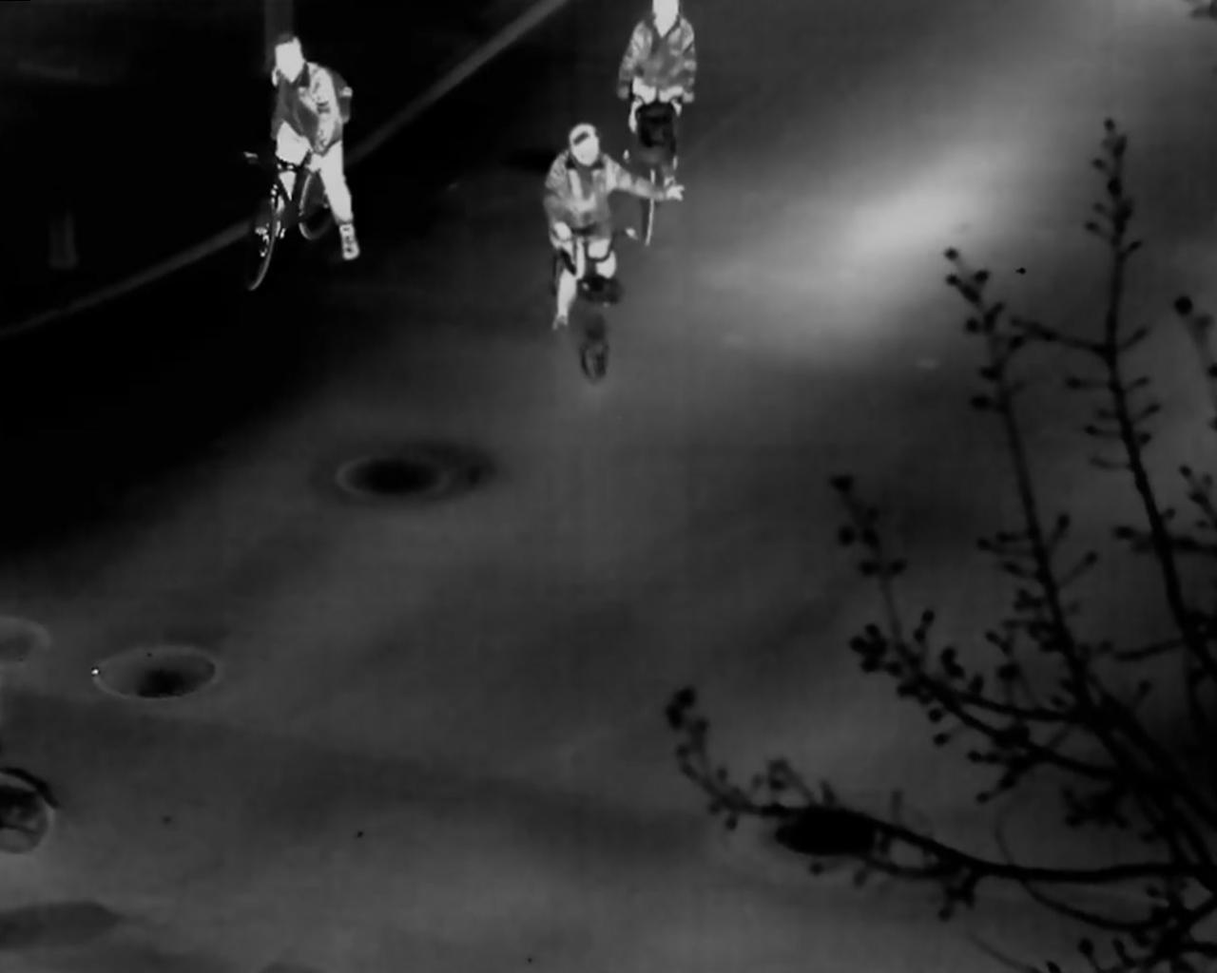person: (543, 122, 685, 337), (251, 30, 361, 260)
